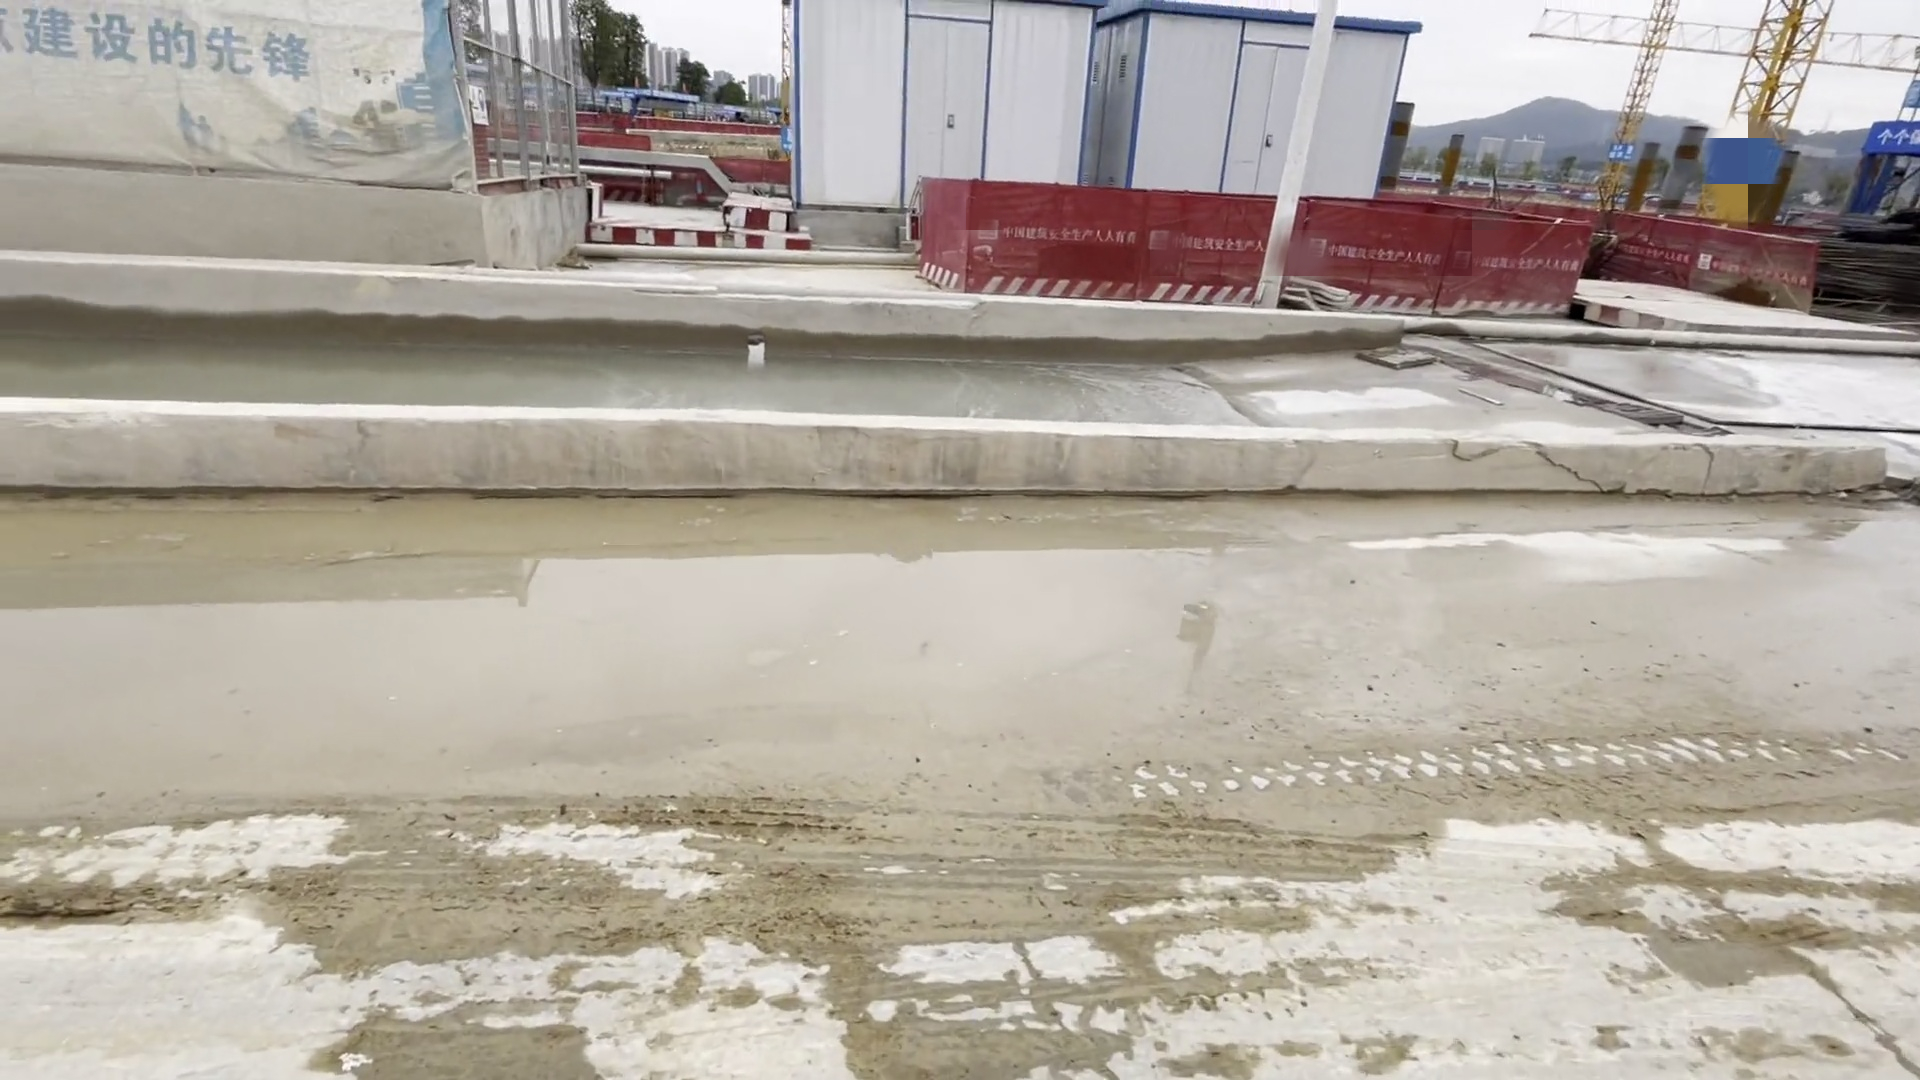fence: (909, 146, 1586, 344)
